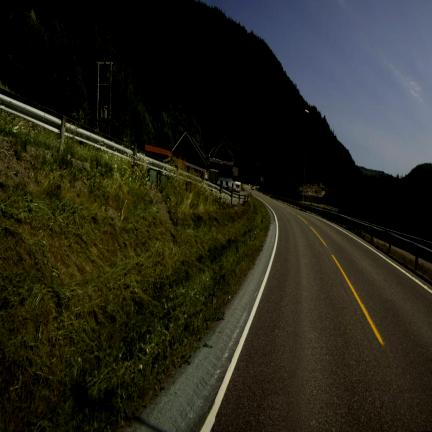Road: (213, 196, 431, 430)
